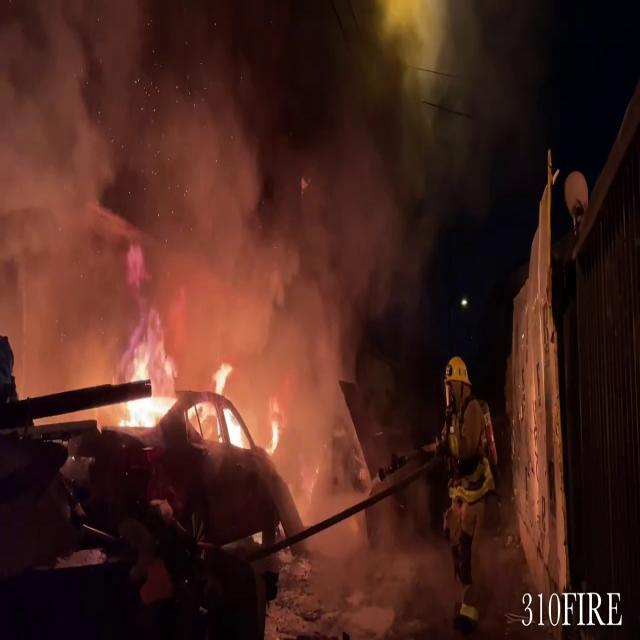Fire: (106, 341, 282, 461)
Smoke: (0, 0, 414, 372)
